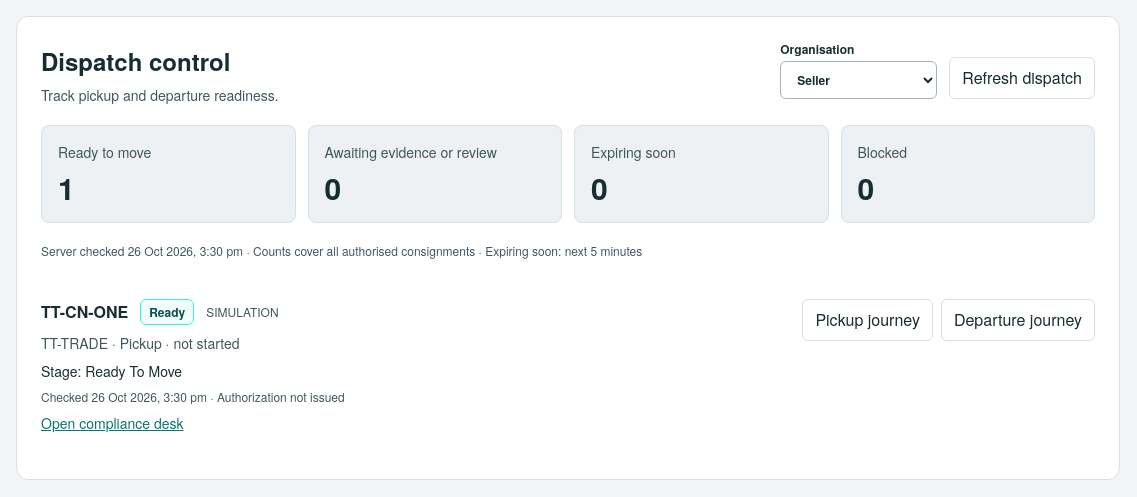
Test: clears previous organisation rows while a new organisation loads
The width and height of the screenshot is (1137, 497).
Check: the heading "TT-CN-ONE" is shown, box [41,300,128,324]
Select "Other company" in the dropdown named "Dispatch organisation" at (859, 80), box [780,61,937,99]
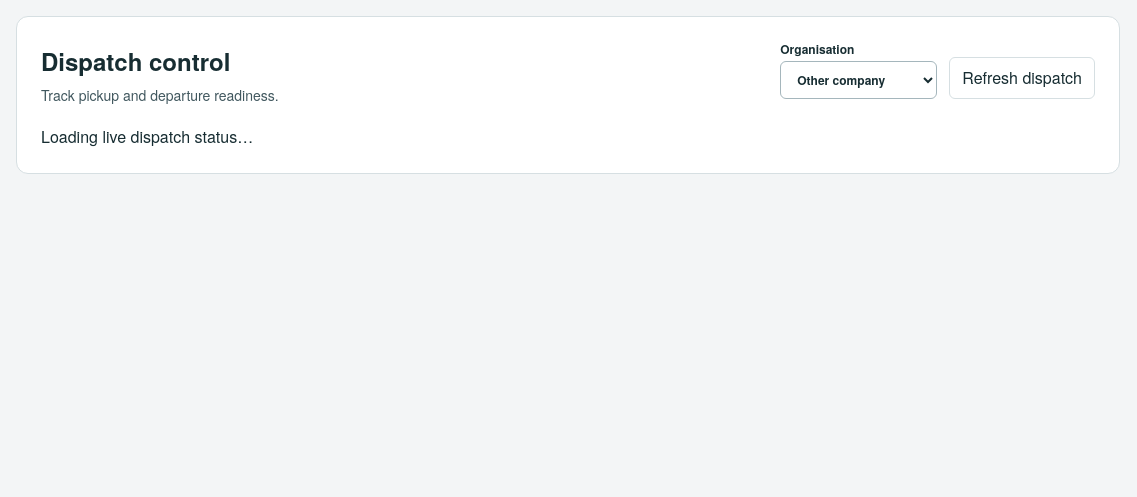
Check: the heading "TT-CN-ONE" is gone
